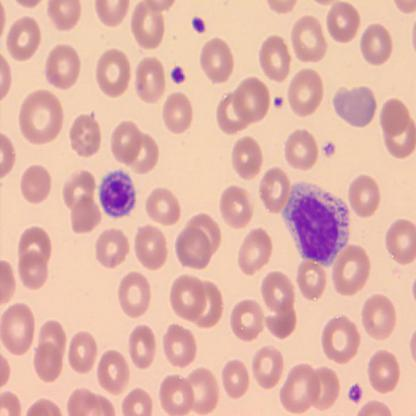Myelocyte: (284, 180, 348, 264)
